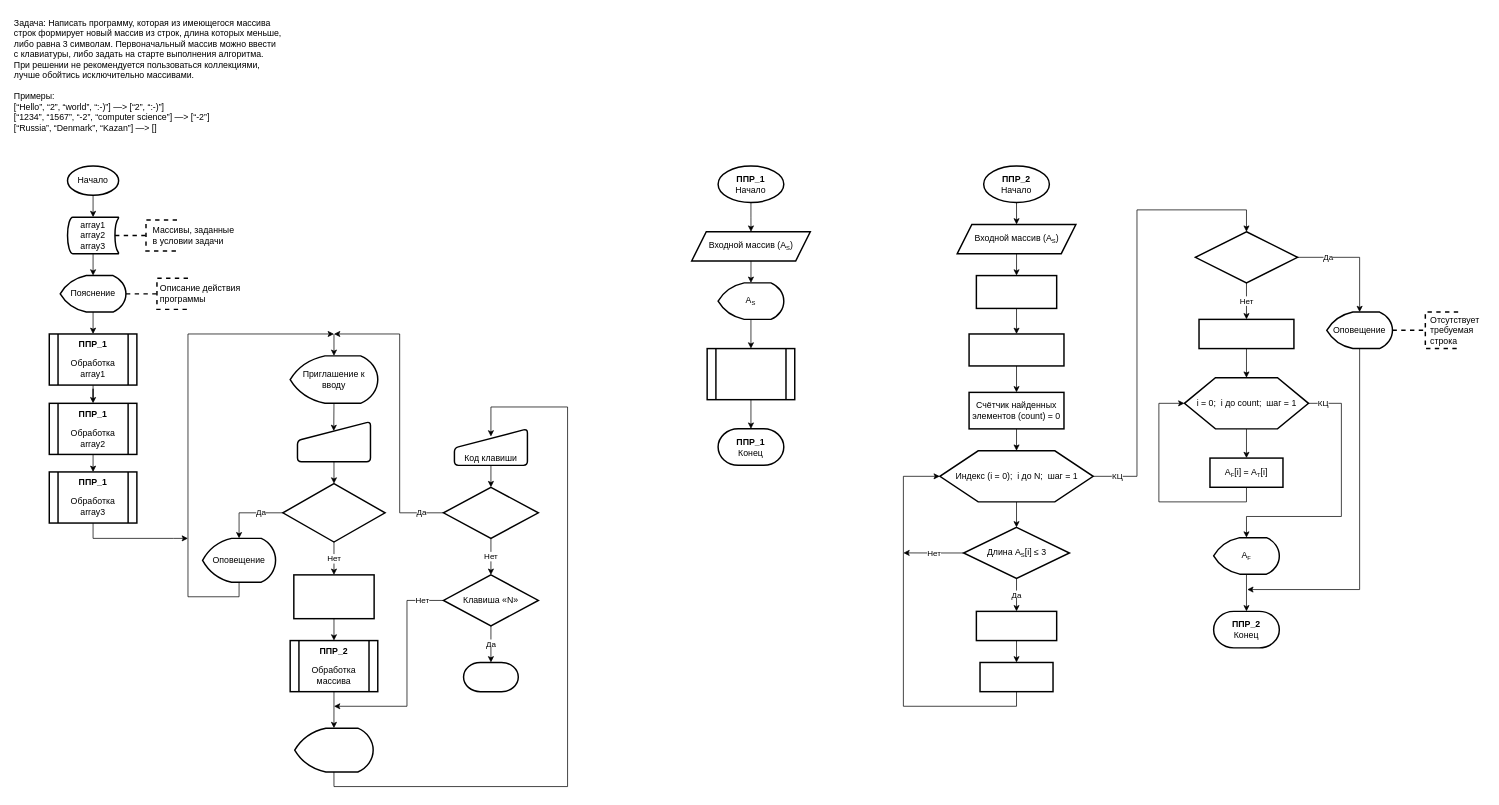
This 1499x805 diagram has some shape labels left out. Each missing label, with the box of its shape:
A T [count] = A S [i]: (975, 610, 1057, 641)
count = 0: (1194, 231, 1298, 283)
count = count +1: (979, 661, 1053, 692)
N = размер A S: (975, 274, 1057, 309)
Ввод строки: (296, 420, 371, 462)
Длина строки = 0: (282, 483, 385, 542)
Запрос на продолжение: (294, 727, 374, 772)
Клавиша «Y»: (442, 486, 539, 539)
Конец: (462, 661, 519, 692)
ППР_2 Обработка A S: (706, 347, 795, 400)
Преобразование строки в массив строк: (293, 574, 374, 619)
Размер временного массива (A T ) = N: (968, 333, 1064, 366)
Размер конечного массива (A F ) = count: (1198, 318, 1294, 349)
